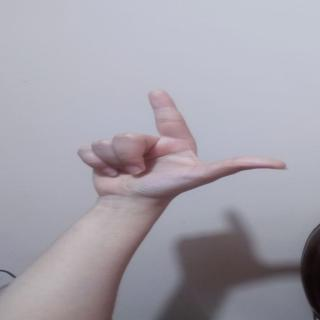LAAM: (74, 84, 287, 202)
